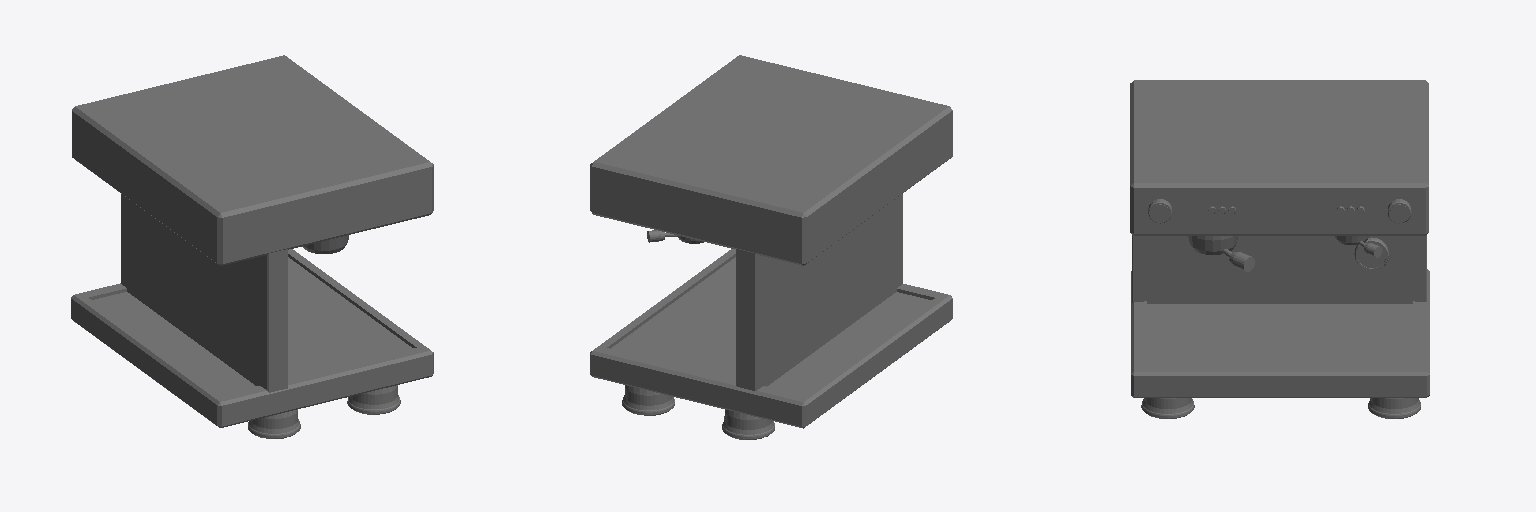
The model's file is cafetera.obj.
3 renders of one model, left to right at view 1: azimuth 30°, elevation 25°; view 2: azimuth 150°, elevation 25°; view 3: azimuth 270°, elevation 25°, orthographic.
Parts seen in each view (by area): view 1: pCube75; view 2: pCube75; view 3: pCube75.
Part boxes in pixels (left/top/right/bottom): pCube75: left=71, top=55, right=433, bottom=438; pCube75: left=590, top=55, right=952, bottom=439; pCube75: left=1130, top=80, right=1429, bottom=418.
Bounding box in the file's own units: 10.65 × 11.19 × 12.38.